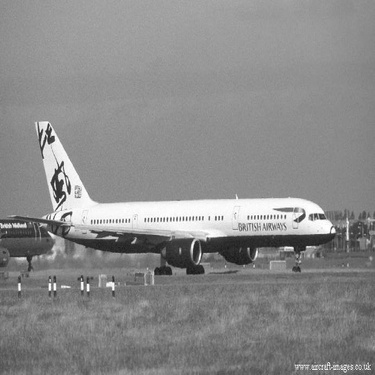airplane: (11, 121, 339, 272), (1, 214, 54, 272)
